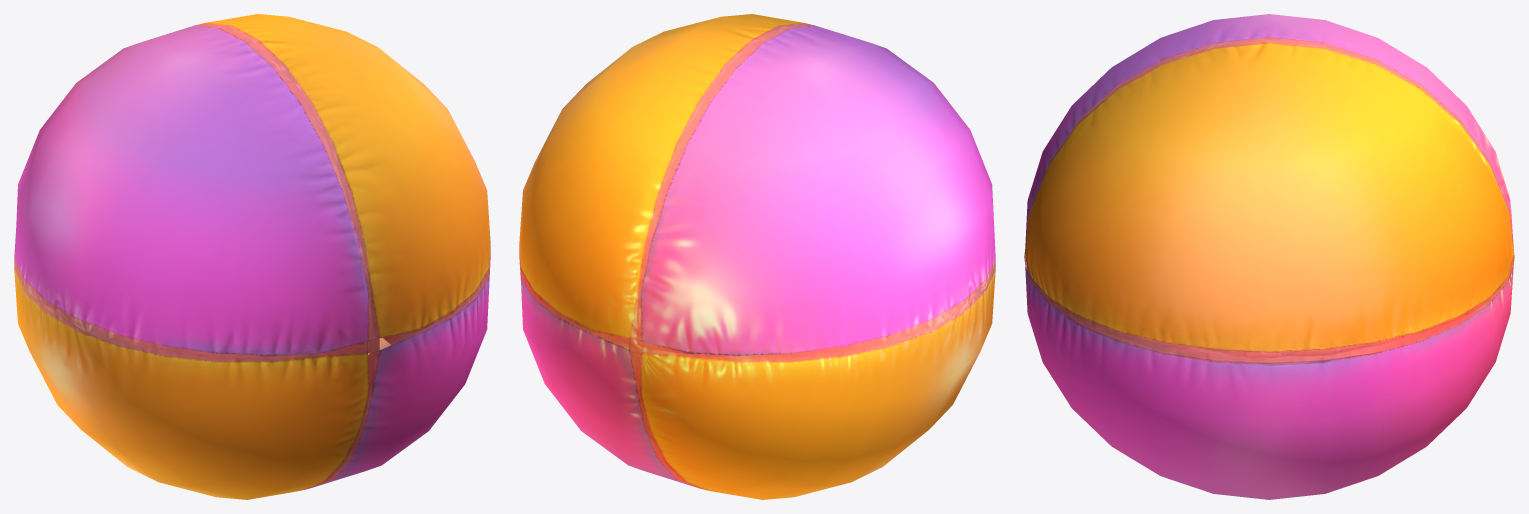
Rendered from balloon006.glb.
3 views of the same model, side by side, from view 1: azimuth 30°, elevation 25°; view 2: azimuth 150°, elevation 25°; view 3: azimuth 270°, elevation 25° (orthographic).
Visible parts, largest first — view 1: _TMP_Balloon006; view 2: _TMP_Balloon006; view 3: _TMP_Balloon006.
Part boxes in pixels (x1,y1,x2,y2): _TMP_Balloon006: [14, 14, 490, 499]; _TMP_Balloon006: [519, 14, 995, 499]; _TMP_Balloon006: [1024, 14, 1514, 499].
Size of the model in its own units: 1.14 by 1.14 by 1.17.
Materials: 1 (1 with a texture image).
